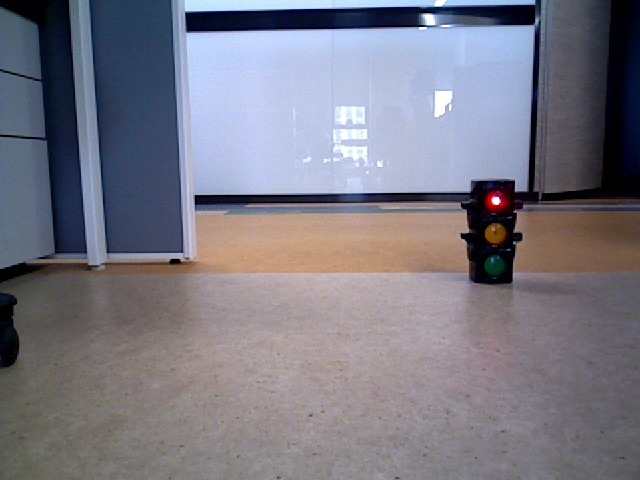red: (471, 182, 509, 280)
